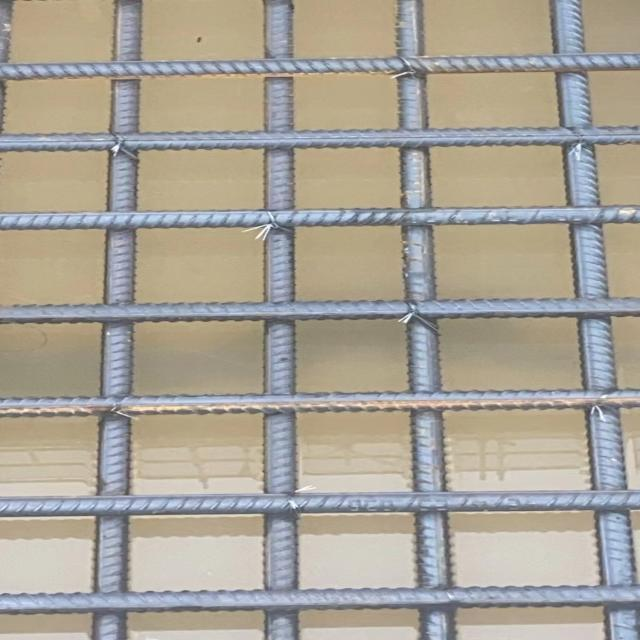ribbed bar: (548, 0, 638, 639), (391, 0, 456, 639), (89, 0, 145, 639), (260, 0, 298, 639), (0, 586, 639, 616), (0, 388, 639, 417), (0, 125, 639, 153), (0, 490, 639, 518), (0, 53, 639, 80), (0, 203, 639, 230), (0, 297, 639, 324)
